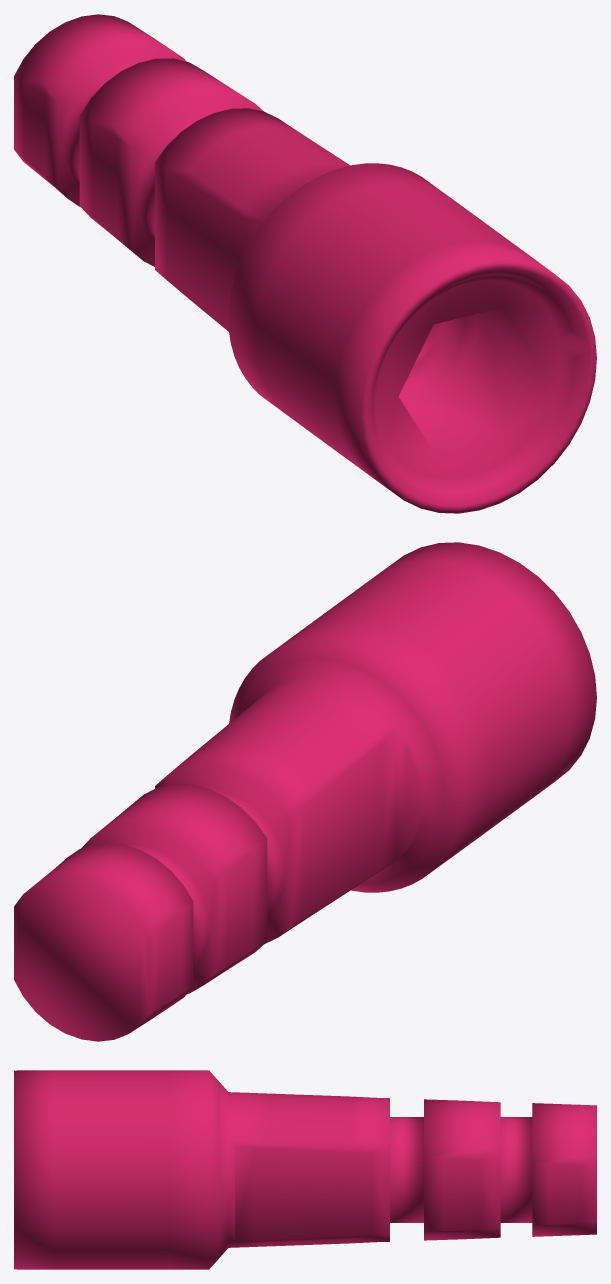
Rendered from implant_4.5.obj.
3 renders of one model, top to bottom at view 1: azimuth 30°, elevation 25°; view 2: azimuth 150°, elevation 25°; view 3: azimuth 270°, elevation 25°, orthographic. The views are drawn at different scales.
Size of the model in its own units: 4.7 by 4.7 by 13.72.
